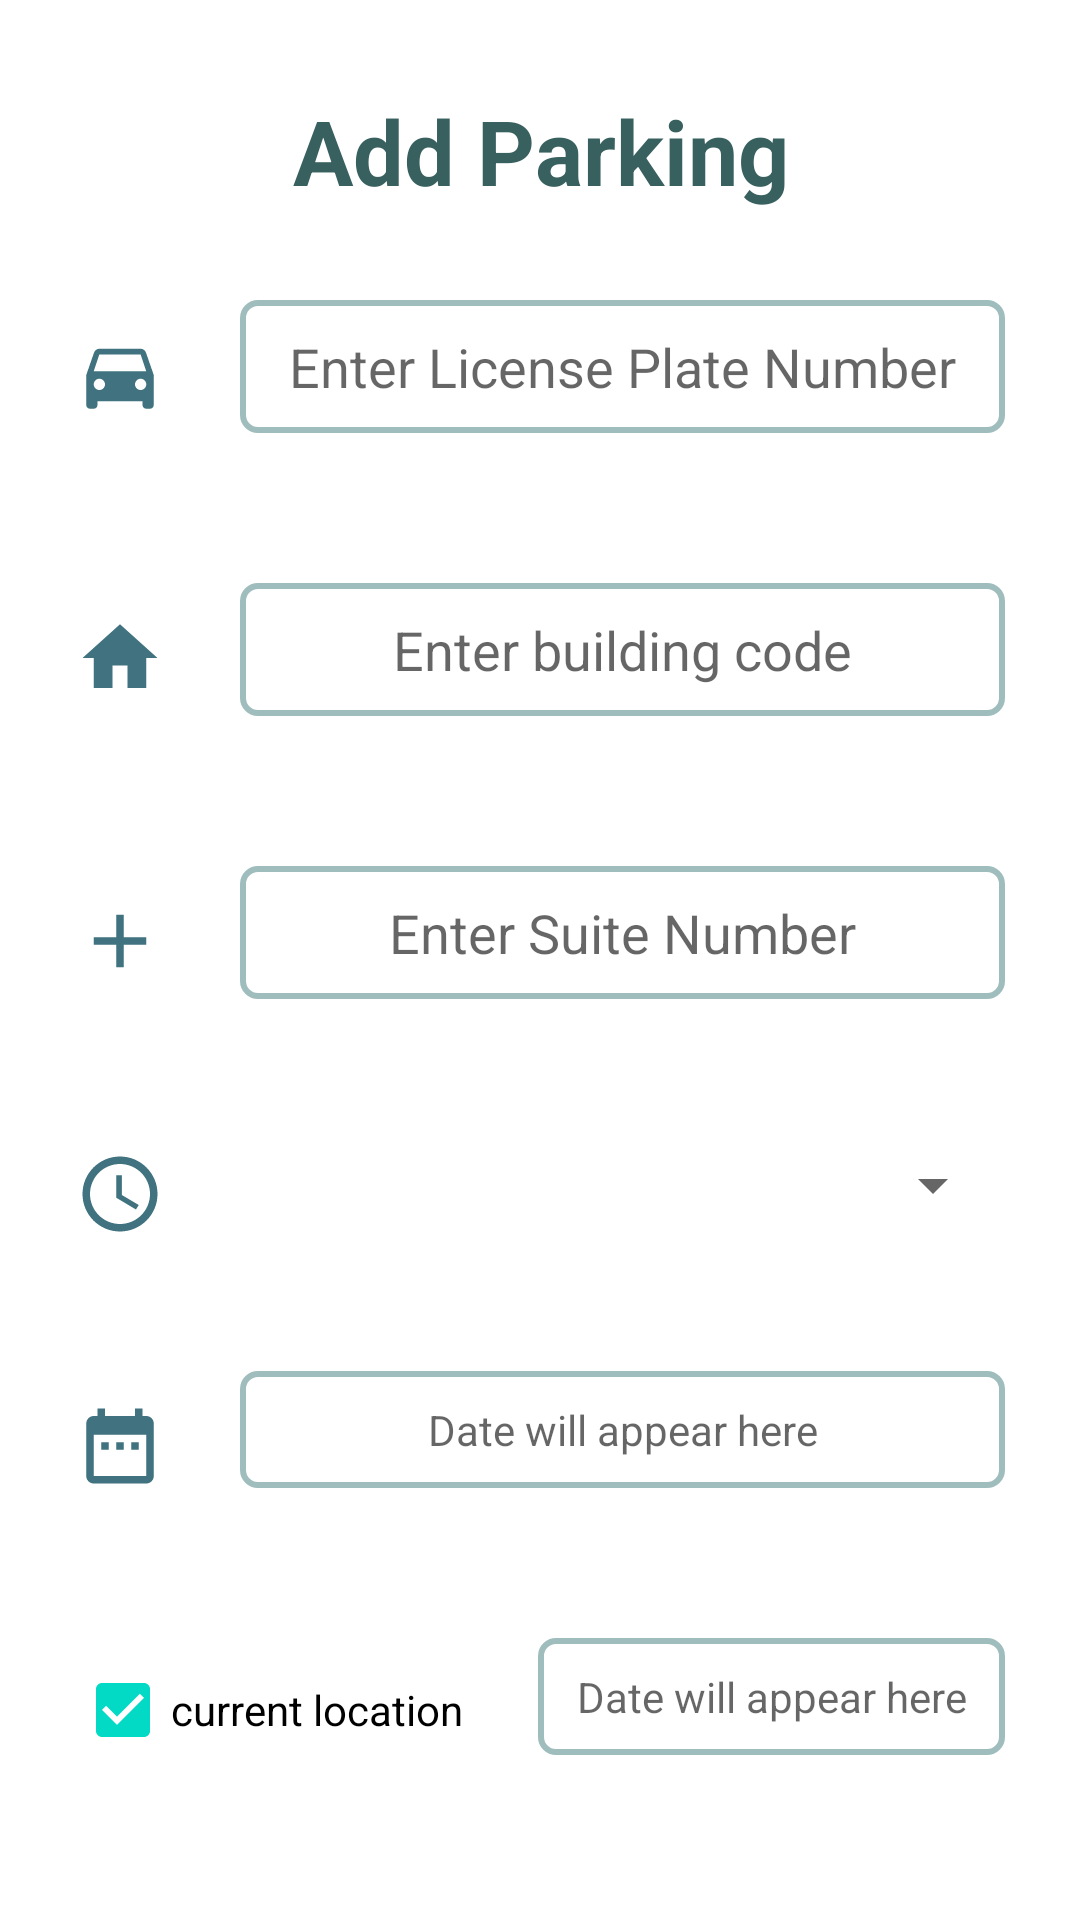

Named icons in this screenshot (1080px x 1920px) and their centers, point (x, y):
add: point (120, 941)
car: point (120, 378)
home: point (120, 656)
